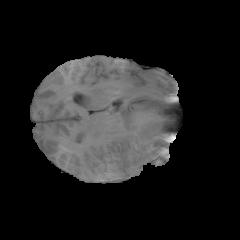glioma: (119, 107, 167, 174)
